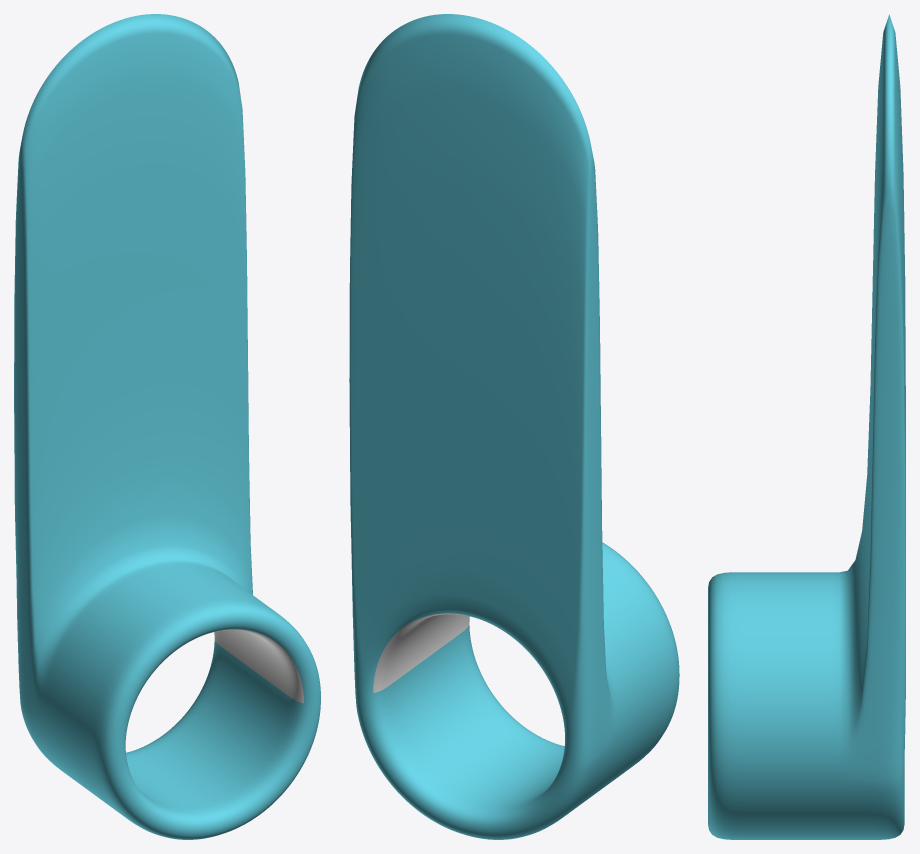
File: Tunnel1.fbx
The picture shows the model from 3 angles, left to right: view 1: azimuth 30°, elevation 25°; view 2: azimuth 150°, elevation 25°; view 3: azimuth 270°, elevation 25°; orthographic projection. The views are drawn at different scales.
Visible parts, largest first — view 1: Cylinder; view 2: Cylinder; view 3: Cylinder.
Part boxes in pixels (x1,y1,x2,y2): Cylinder: (14,14,320,839); Cylinder: (349,14,679,839); Cylinder: (708,14,905,839).
Size of the model in its own units: 3992 by 13116 by 2937.
